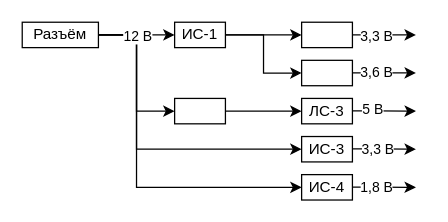
Some shapes in this 448 by 222 pixel diagram are drawn without their labels. The box of each missing label's shape, as (x1, y1, x2, y2) in pixels:
ИС-2: (173, 97, 225, 124)
ЛС-1: (300, 21, 352, 48)
ЛС-2: (300, 59, 352, 86)
